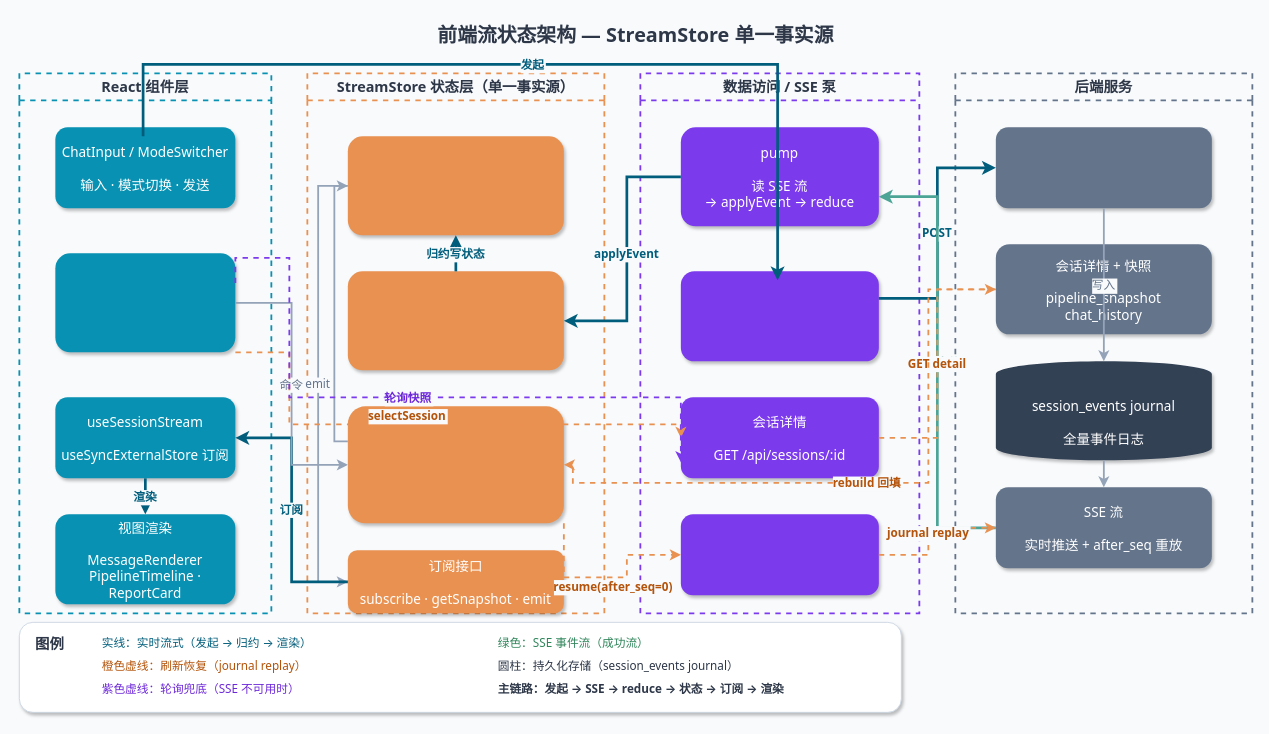
Some shapes in this 1269 by 734 pixel diagram are drawn without their labels. Each missing label, with the centre of its shape:
"App.tsx 主组件 selectSession · 轮询 effect deriveAppState" belongs at pixel 145 303.
"reduce 纯函数 thinking_token · chat_token pipeline 事件归约" belongs at pixel 456 321.
"分析 / 聊天服务 (backend)" belongs at pixel 1104 168.
"命令方法 submit · resume · switchSession rebuildSession updatePipelineSnapshot" belongs at pixel 456 465.
"提交 POST /api/analyze /api/chat" belongs at pixel 780 317.
"状态 SessionStreamState phase · messages lastSeq · origin" belongs at pixel 456 186.
"续传重放 GET .../stream?after_seq=0" belongs at pixel 780 555.
